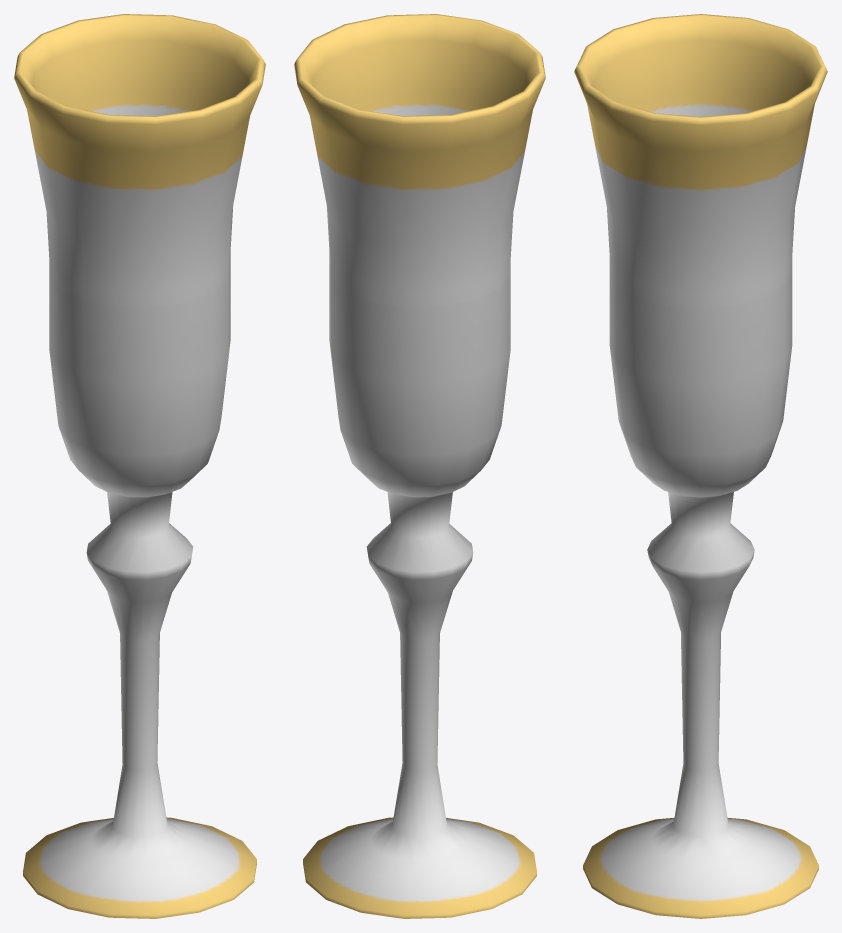
Rendered from TableGlassWare01_2.FBX.
3 views of the same model, side by side, from view 1: azimuth 30°, elevation 25°; view 2: azimuth 150°, elevation 25°; view 3: azimuth 270°, elevation 25° (orthographic).
Visible parts, largest first — view 1: TableGlassWare01_2; view 2: TableGlassWare01_2; view 3: TableGlassWare01_2.
Boxes of the visible parts, x1,y1,x2,y2 form: TableGlassWare01_2: (14,14,265,918); TableGlassWare01_2: (294,14,545,918); TableGlassWare01_2: (574,14,827,918).
Size of what is drawn, in the model's own units: 0.07 by 0.2449 by 0.07.
